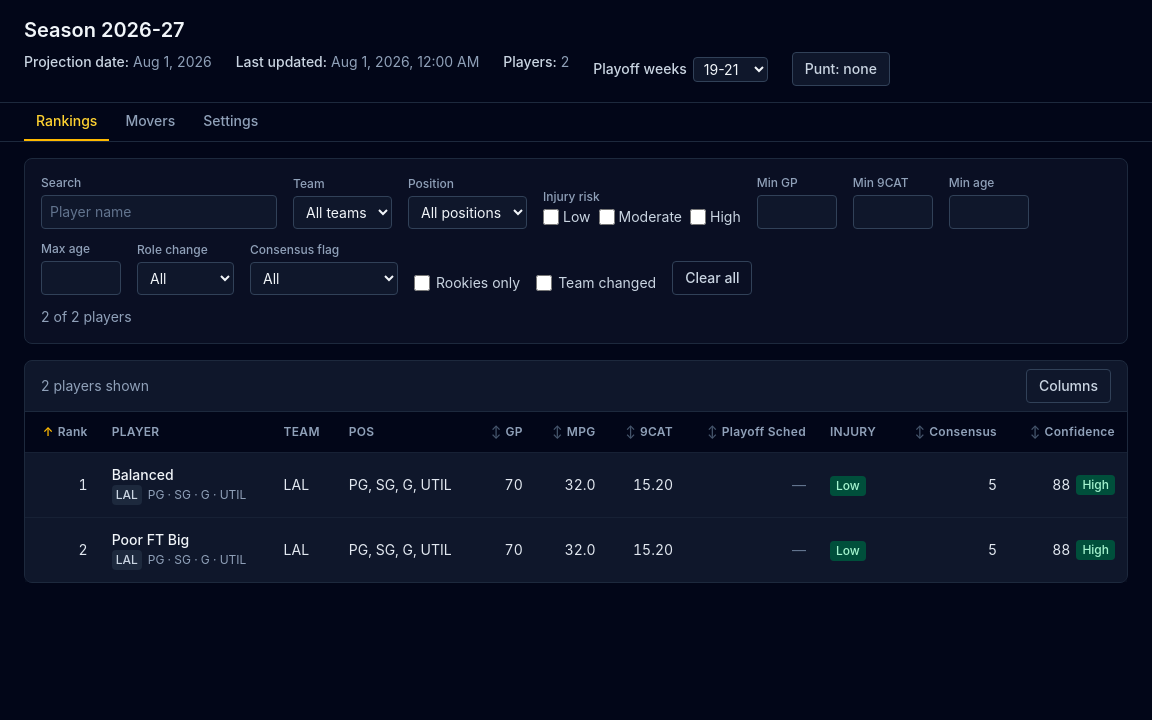
Scenario: App › punt build › unchecking all punted categories restores the shipped order
Expected: the text "Balanced" is shown, [112,466,174,483]
Step 1. Click the button "Punt: none" → x=841, y=69, box [792,52,890,86]
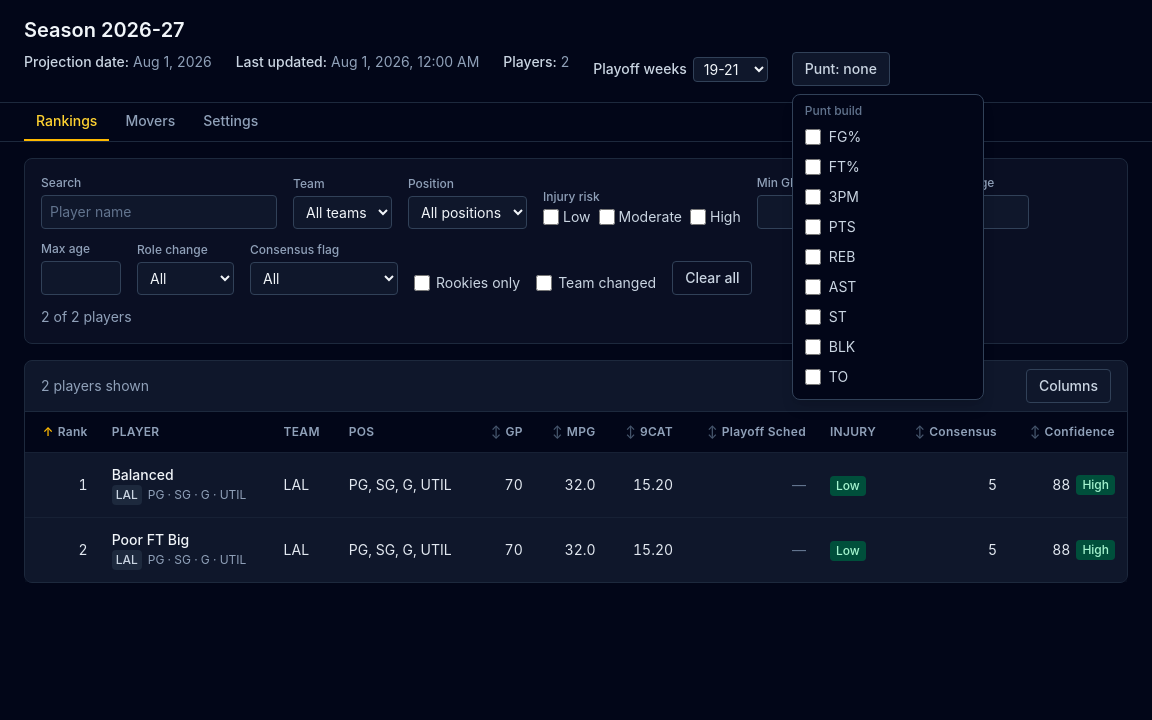
Step 2. Click the checkbox labelled "FT%" → x=813, y=167, box [805,159,821,175]
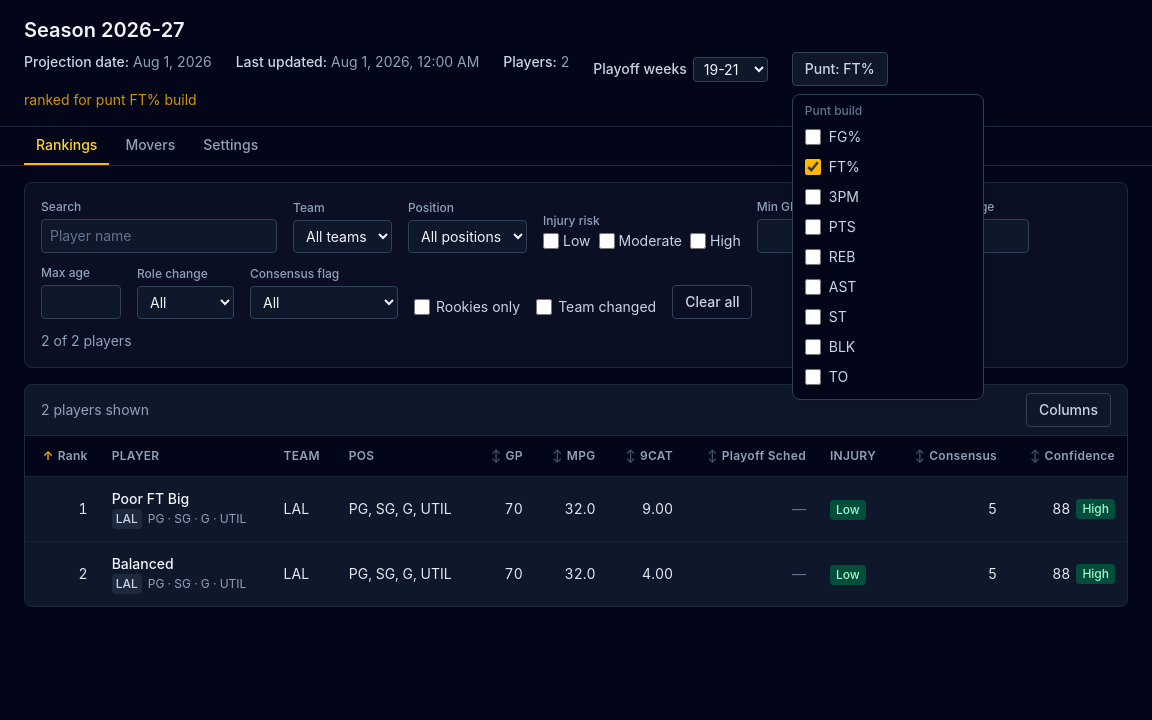
Step 3. Click the checkbox labelled "AST" → x=813, y=287, box [805,279,821,295]
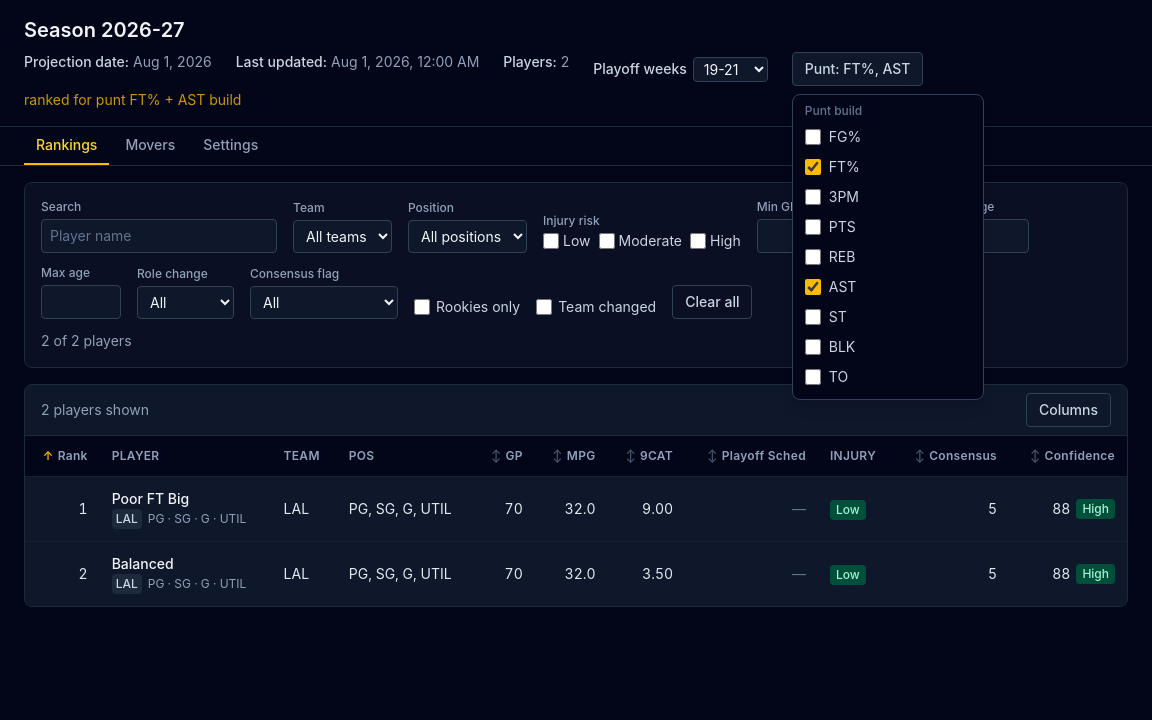
Expected: the text "Poor FT Big" is shown, [112,490,189,507]
Step 4. Click the checkbox labelled "FT%" → x=813, y=167, box [805,159,821,175]
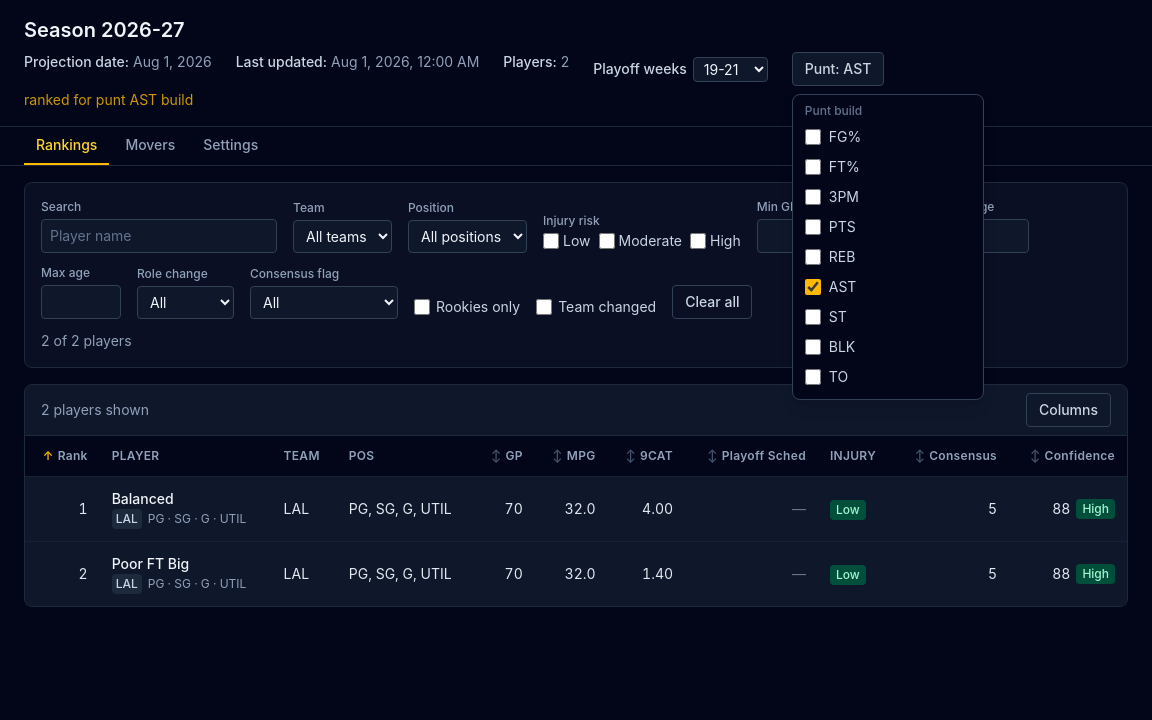
Step 5. Click the checkbox labelled "AST" → x=813, y=287, box [805,279,821,295]
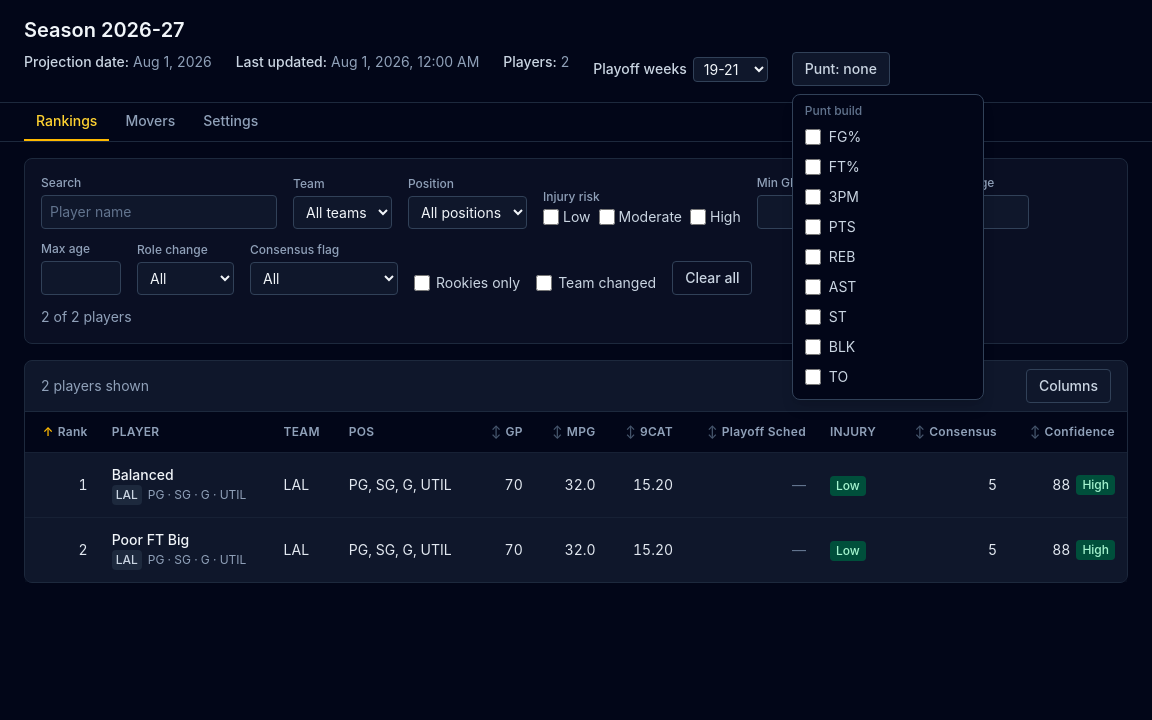
Expected: the text "Balanced" is shown, [112,466,174,483]
Now the text "ranked for punt" is gone
